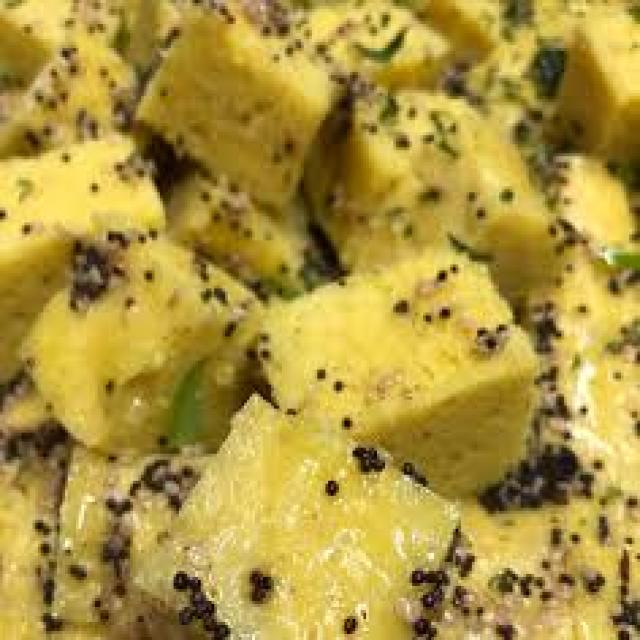DHOKLA: (3, 0, 637, 637)
